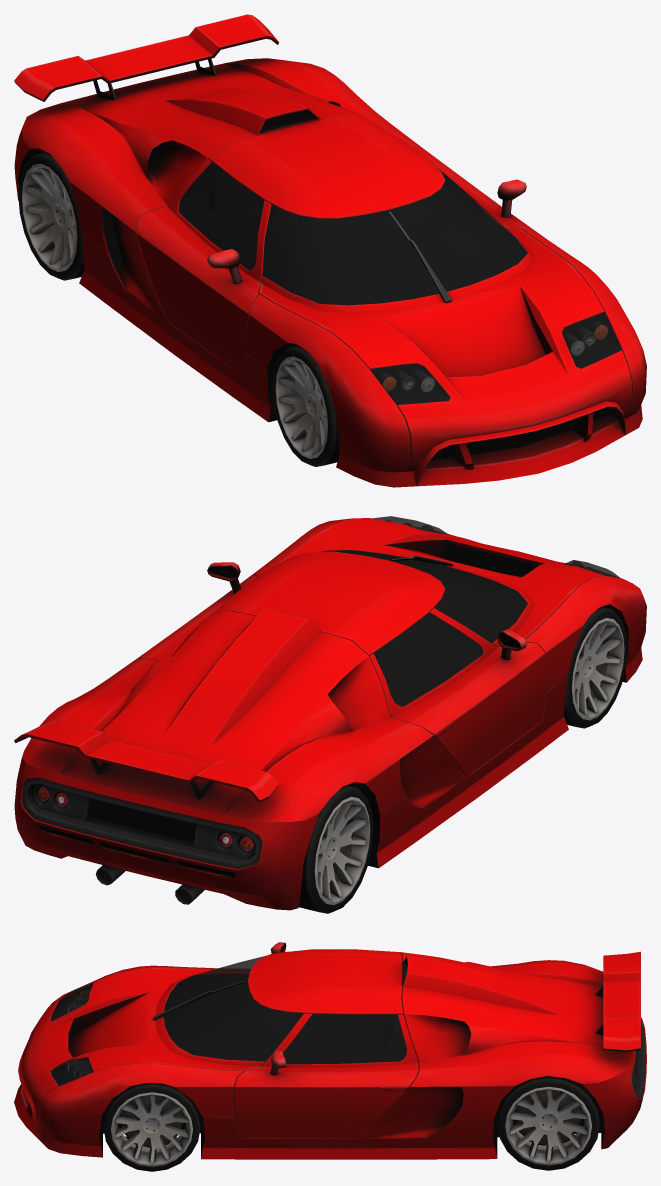
File: Sport.FBX
The picture shows the model from 3 angles, top to bottom: view 1: azimuth 30°, elevation 25°; view 2: azimuth 150°, elevation 25°; view 3: azimuth 270°, elevation 25°; orthographic projection. The views are drawn at different scales.
Visible parts, largest first — view 1: Sport body, Wheel_H003, Wheel_H002; view 2: Sport body, Wheel_H003, Wheel_H002; view 3: Sport body, Wheel_H001, Wheel_H.
Boxes of the visible parts, x1=… form: Sport body: x1=14, y1=14, x2=646, y2=487; Wheel_H003: x1=18, y1=152, x2=84, y2=280; Wheel_H002: x1=272, y1=345, x2=339, y2=466; Sport body: x1=14, y1=516, x2=646, y2=910; Wheel_H003: x1=299, y1=785, x2=373, y2=913; Wheel_H002: x1=564, y1=606, x2=627, y2=728; Sport body: x1=14, y1=942, x2=646, y2=1159; Wheel_H001: x1=497, y1=1076, x2=599, y2=1170; Wheel_H: x1=103, y1=1083, x2=200, y2=1171.
Size of the model in its own units: 1990 by 1170 by 4403.
Materials: 4 (3 with a texture image).
